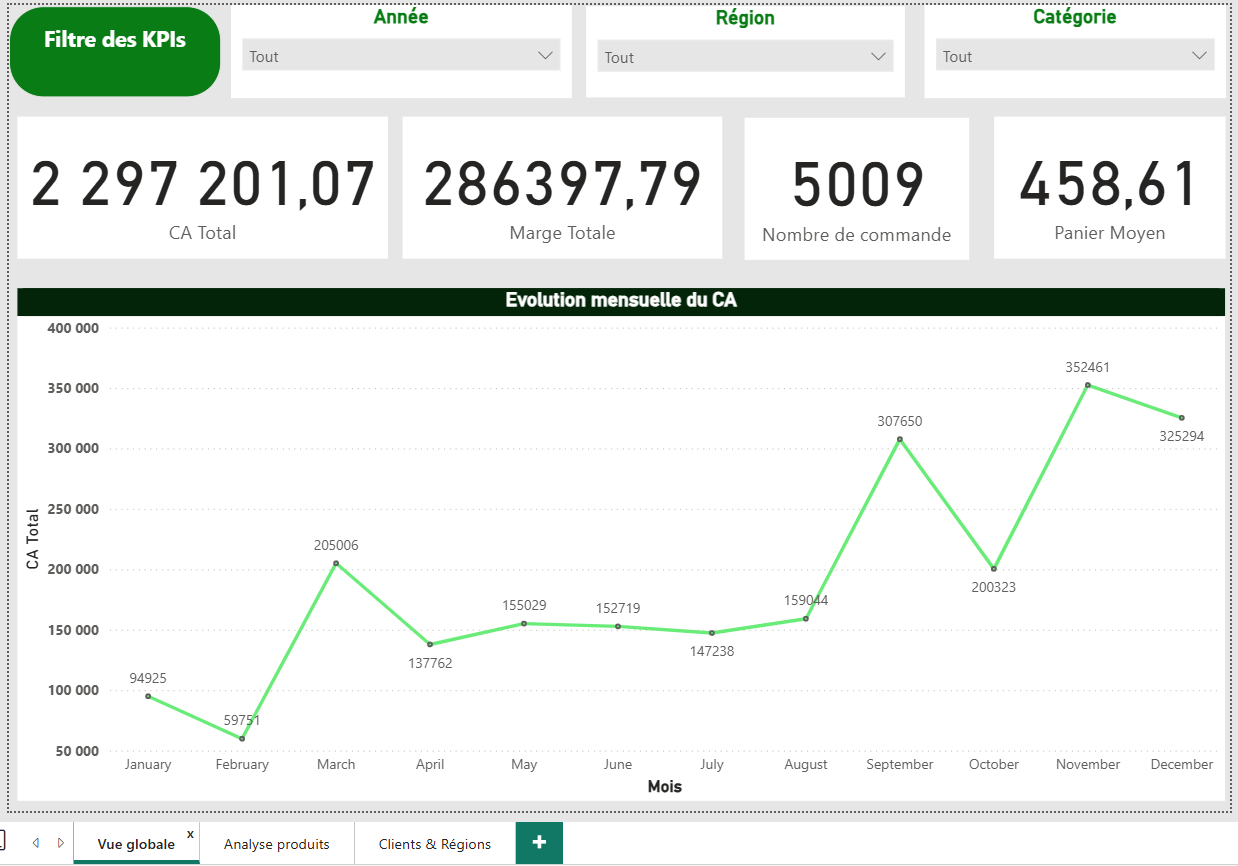

This screenshot's page, from the dashboard's own definition file:
{"tool":"powerbi","page":{"name":"Vue globale","canvas":[1060,700],"ordinal":0},"visuals":[{"type":"card","fields":{"Values":["Sum(fact_sales.sales_amount)"]},"box":[7.5,96.8,321.5,123.7],"z":0},{"type":"card","fields":{"Values":["Count(fact_sales.order_id)"]},"box":[638.7,97.8,194.6,123.7],"z":1000},{"type":"card","fields":{"Values":["fact_sales.Panier Moyen"]},"box":[854.8,96.8,201.1,123.7],"z":2000},{"type":"card","fields":{"Values":["Sum(fact_sales.profit)"]},"box":[341.9,96.8,277.4,123.7],"z":3000},{"type":"lineChart","title":"Evolution mensuelle du CA","fields":{"Category":["dim_date.year","dim_date.month_name"],"Y":["Sum(fact_sales.sales_amount)"]},"box":[7.5,246.2,1048.4,445.2],"z":4000},{"type":"slicer","title":"Année","fields":{"Values":["dim_date.year"]},"box":[192.5,0,295.7,80.6],"z":5000},{"type":"slicer","title":"Région","fields":{"Values":["dim_region.region"]},"box":[501.1,1.1,276.3,79.6],"z":6000},{"type":"slicer","title":"Catégorie","fields":{"Values":["dim_product.category"]},"box":[794.6,0,261.3,80.6],"z":7000},{"type":"textbox","box":[0,1.1,183.9,79.6],"z":8000}]}

Visuals, with their boxes on the page's 1060x700 design canvas (x1, y1, x2, y2). These are canvas units, not pixel positions in the 1238x866 screenshot, which may show the page scaled, cropped or inside an application window:
card - Sum(fact_sales.sales_amount): region(8, 97, 329, 220)
card - Count(fact_sales.order_id): region(639, 98, 833, 222)
card - fact_sales.Panier Moyen: region(855, 97, 1056, 220)
card - Sum(fact_sales.profit): region(342, 97, 619, 220)
"Evolution mensuelle du CA" lineChart: region(8, 246, 1056, 691)
"Année" slicer: region(192, 0, 488, 81)
"Région" slicer: region(501, 1, 777, 81)
"Catégorie" slicer: region(795, 0, 1056, 81)
textbox: region(0, 1, 184, 81)
